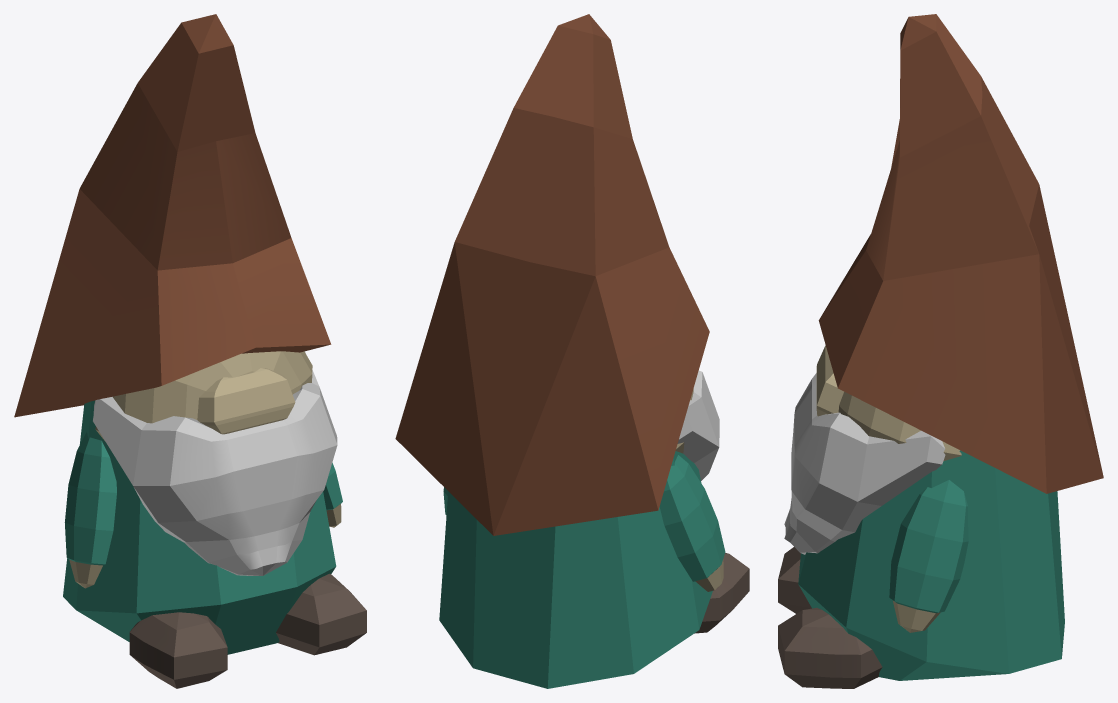
The model's file is Gnome.fbx.
3 renders of one model, left to right at view 1: azimuth 30°, elevation 25°; view 2: azimuth 150°, elevation 25°; view 3: azimuth 270°, elevation 25°, orthographic. The views are drawn at different scales.
Parts seen in each view (by area): view 1: Gnome; view 2: Gnome; view 3: Gnome.
Part boxes in pixels (bbox=[...]): Gnome: bbox=[14, 14, 366, 688]; Gnome: bbox=[395, 14, 749, 688]; Gnome: bbox=[778, 14, 1103, 688].
Size of the model in its own units: 51.66 by 113 by 53.17.
